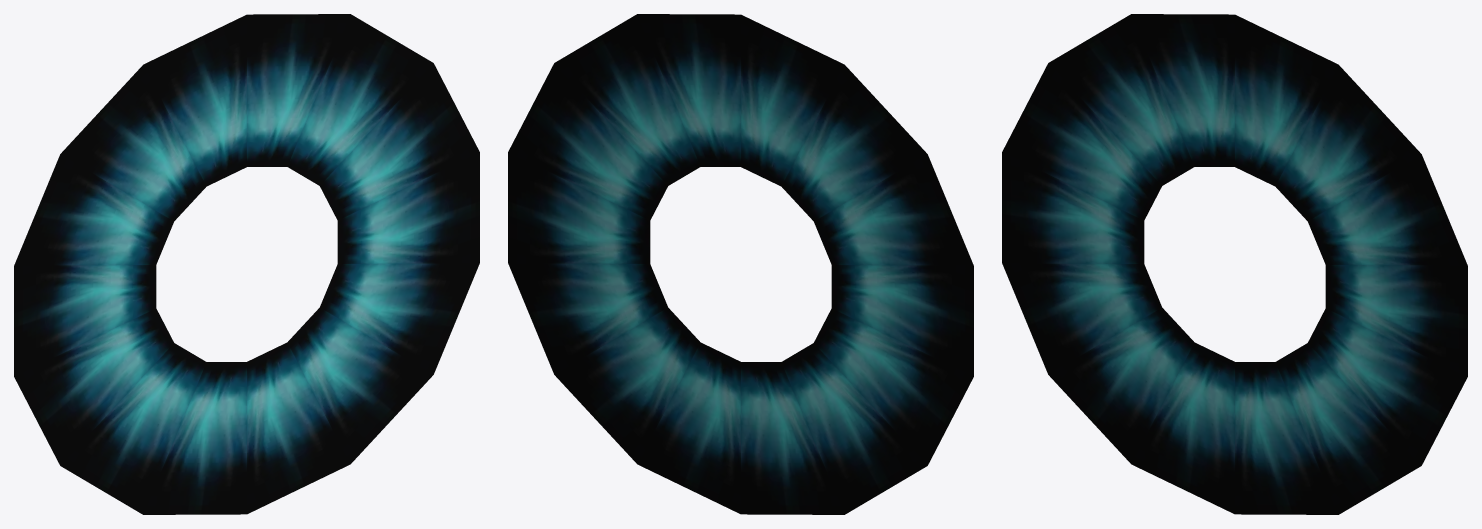
File: combo.glb
3 renders of one model, left to right at view 1: azimuth 30°, elevation 25°; view 2: azimuth 150°, elevation 25°; view 3: azimuth 330°, elevation 25°, orthographic.
Visible parts, largest first — view 1: model_combo; view 2: model_combo; view 3: model_combo.
Part boxes in pixels (<box>): model_combo: <box>14,14,479,514</box>; model_combo: <box>508,14,973,514</box>; model_combo: <box>1002,14,1467,514</box>.
Bounding box in the file's own units: 3.49 × 3.58 × 0.
1 material, 1 textured.
